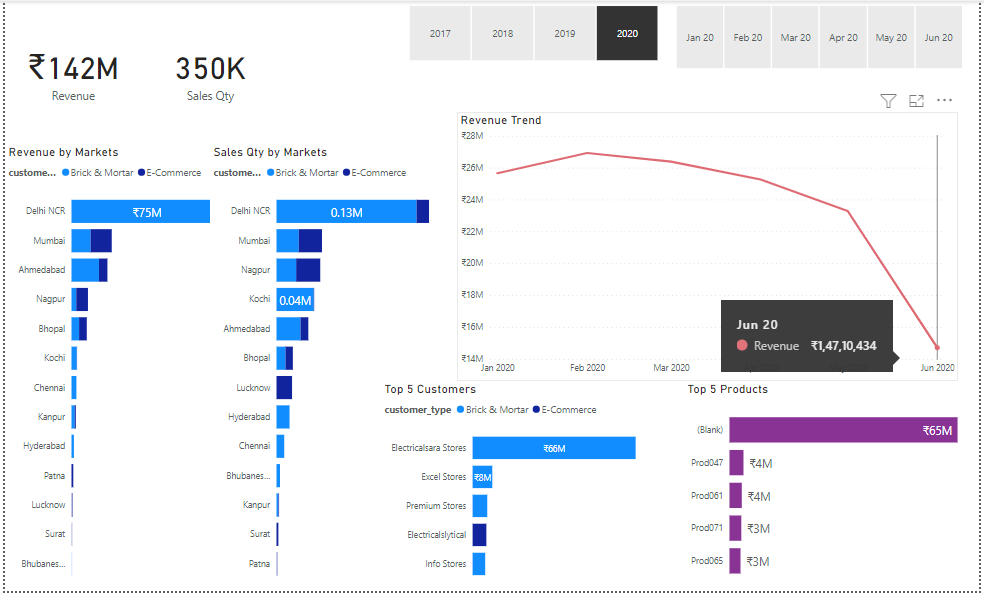

The dashboard page shown, as its layout file describes it:
{"tool":"powerbi","page":{"name":"ECom Vs B&M","canvas":[1350,817],"ordinal":2},"visuals":[{"type":"card","fields":{"Values":["BaseMeasures.Revenue"]},"box":[0,0,189.1,198.2],"z":0},{"type":"card","fields":{"Values":["BaseMeasures.Sales Qty"]},"box":[189.1,0,189.1,198.2],"z":1000},{"type":"barChart","title":"Revenue by Markets","fields":{"Y":["BaseMeasures.Revenue"],"Category":["sales markets.markets_name"],"Series":["sales customers.customer_type"]},"box":[0,198.2,317.7,618.8],"z":2000},{"type":"barChart","title":"Sales Qty by Markets","fields":{"Y":["BaseMeasures.Sales Qty"],"Category":["sales markets.markets_name"],"Series":["sales customers.customer_type"]},"box":[284.4,198.2,317.7,618.8],"z":3000},{"type":"slicer","fields":{"Values":["sales date.year"]},"box":[534.1,0,393.4,89.3],"z":4000},{"type":"slicer","fields":{"Values":["sales date.cy_date"]},"box":[904.8,0,444.8,99.9],"z":5000},{"type":"barChart","title":"Top 5 Products","fields":{"Category":["sales products.product_code"],"Y":["BaseMeasures.Revenue"]},"box":[940.7,526.2,409.3,290.6],"z":6000},{"type":"barChart","title":"Top 5 Customers","fields":{"Y":["BaseMeasures.Revenue"],"Category":["sales customers.custmer_name"],"Series":["sales customers.customer_type"]},"box":[520.9,526.2,407.5,290.6],"z":7000},{"type":"lineChart","title":"Revenue Trend","fields":{"Y":["BaseMeasures.Revenue"],"Category":["sales date.cy_date"]},"box":[625.4,154.1,694.5,372],"z":8000}]}

Visuals, with their boxes in screenshot pixels (x1, y1, x2, y2), scaled from the page's 1350x817 canvas onto the 984x599 screenshot:
card - BaseMeasures.Revenue: l=0, t=0, r=138, b=145
card - BaseMeasures.Sales Qty: l=138, t=0, r=276, b=145
"Revenue by Markets" barChart: l=0, t=145, r=232, b=598
"Sales Qty by Markets" barChart: l=207, t=145, r=439, b=598
slicer - sales date.year: l=389, t=0, r=676, b=65
slicer - sales date.cy_date: l=659, t=0, r=983, b=73
"Top 5 Products" barChart: l=686, t=386, r=983, b=598
"Top 5 Customers" barChart: l=380, t=386, r=677, b=598
"Revenue Trend" lineChart: l=456, t=113, r=962, b=386
